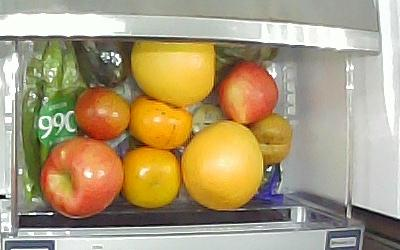apple: (38, 138, 123, 219), (217, 62, 278, 126)
grapefruit: (181, 120, 264, 210), (130, 37, 215, 106)
persimmon: (121, 146, 182, 208), (129, 94, 193, 150)
prune: (74, 87, 131, 139), (251, 113, 294, 164)
